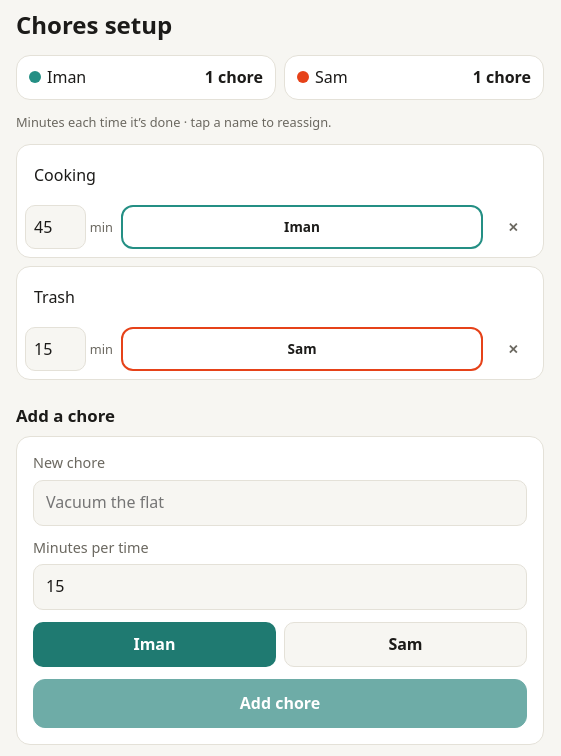
Test: block minutes are rounded to 5 and clamped on blur
Replace the text in the field named "Minutes per time for Cooking" with "22". click: (55, 227)
box: [25,205,86,249]
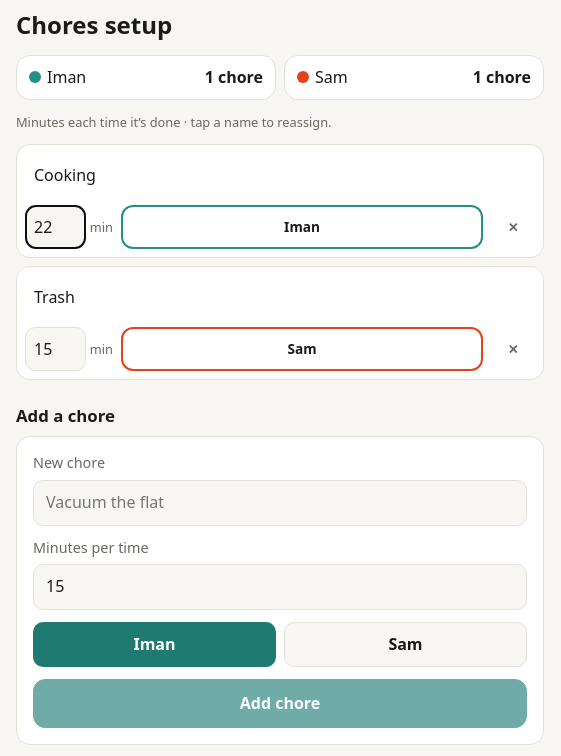
Press Tab
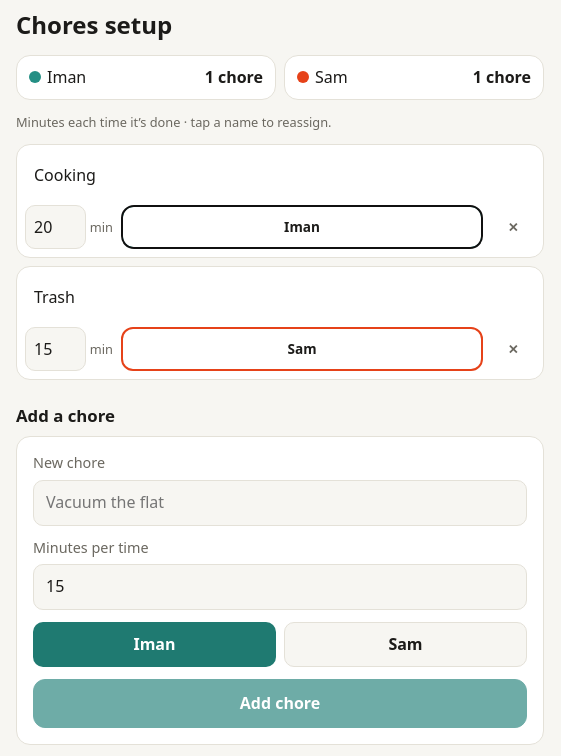
expect the field named "Minutes per time for Cooking" holds "20": met, box [25,205,86,249]
